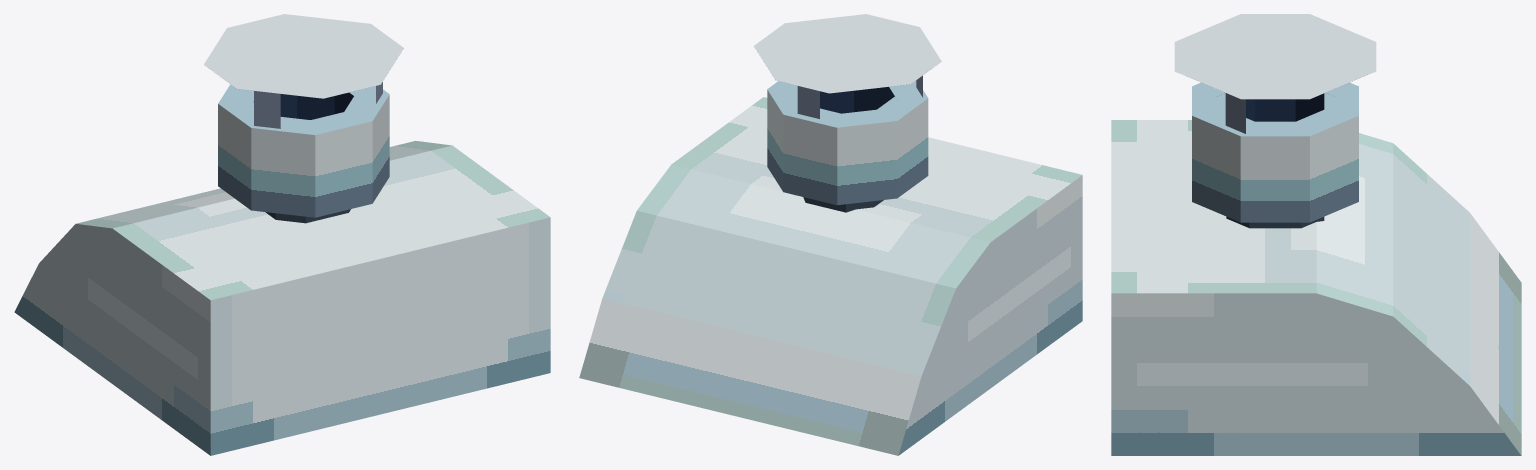
The model's file is m1_air_vent_carport.obj.
3 renders of one model, left to right at view 1: azimuth 30°, elevation 25°; view 2: azimuth 150°, elevation 25°; view 3: azimuth 270°, elevation 25°, orthographic. The views are drawn at different scales.
Visible parts, largest first — view 1: cuboid_selection, cuboid_selection_selection; view 2: cuboid_selection, cuboid_selection_selection; view 3: cuboid_selection, cuboid_selection_selection.
Boxes of the visible parts, left/top/right/bottom form: cuboid_selection: left=14, top=141, right=550, bottom=455; cuboid_selection_selection: left=204, top=14, right=403, bottom=223; cuboid_selection: left=579, top=97, right=1082, bottom=455; cuboid_selection_selection: left=754, top=14, right=941, bottom=212; cuboid_selection: left=1111, top=120, right=1521, bottom=455; cuboid_selection_selection: left=1174, top=14, right=1376, bottom=228.
Bounding box in the file's own units: 1 × 0.8438 × 1.
